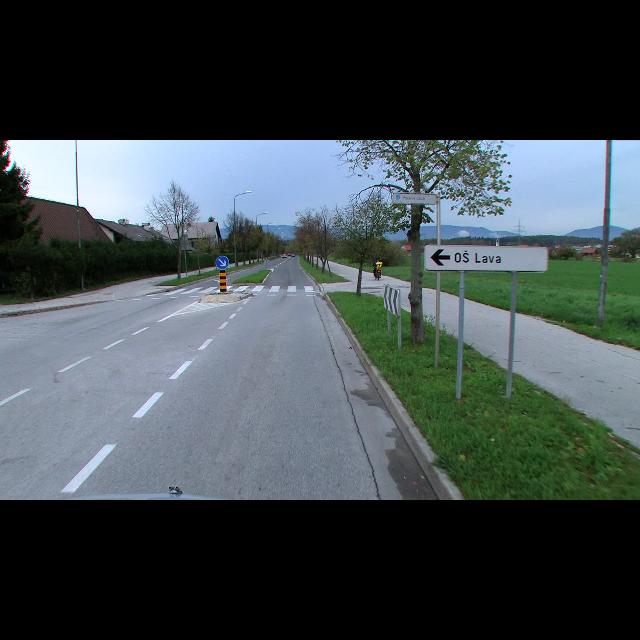Rectangle: (424, 244, 548, 272)
Round: (216, 255, 230, 271)
